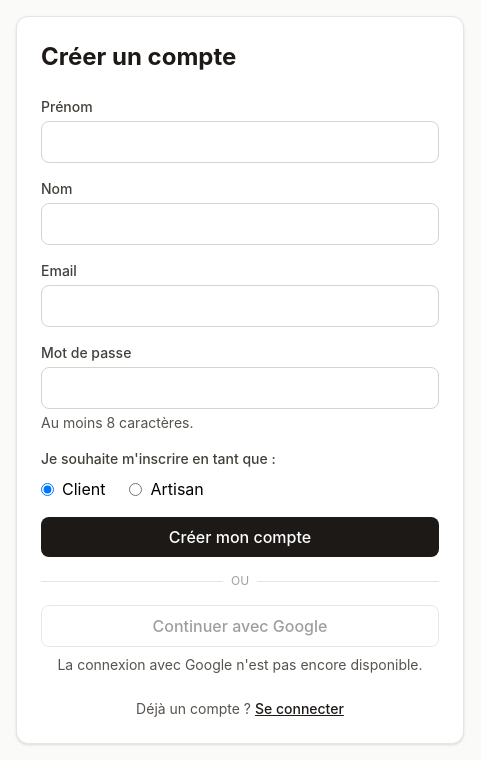
Test: RegisterPage › displays a safe service error for status 0
Type " Alice " into the field labelled "Prénom" at (240, 142), box [41,121,439,163]
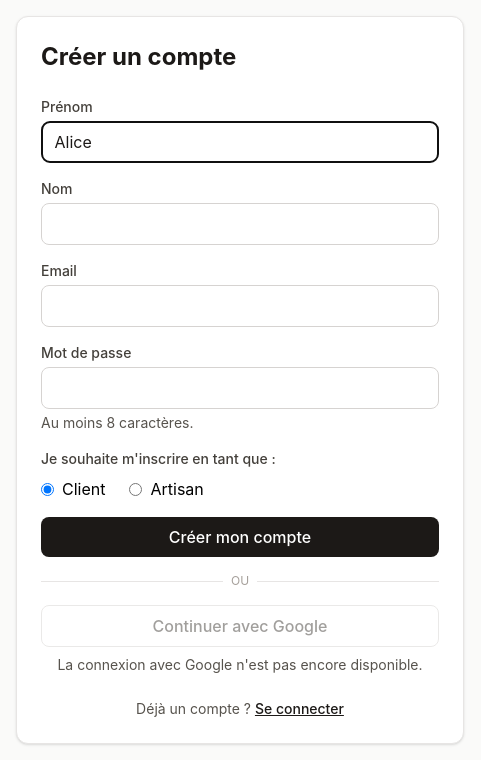
Type " Martin " into the field labelled "Nom" at (240, 224), box [41,203,439,245]
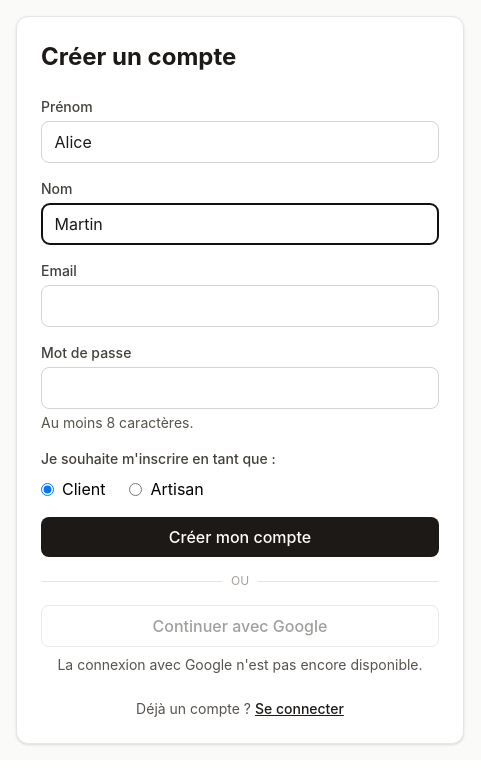
Type "alice@example.fr" into the field labelled "Email" at (240, 306), box [41,285,439,327]
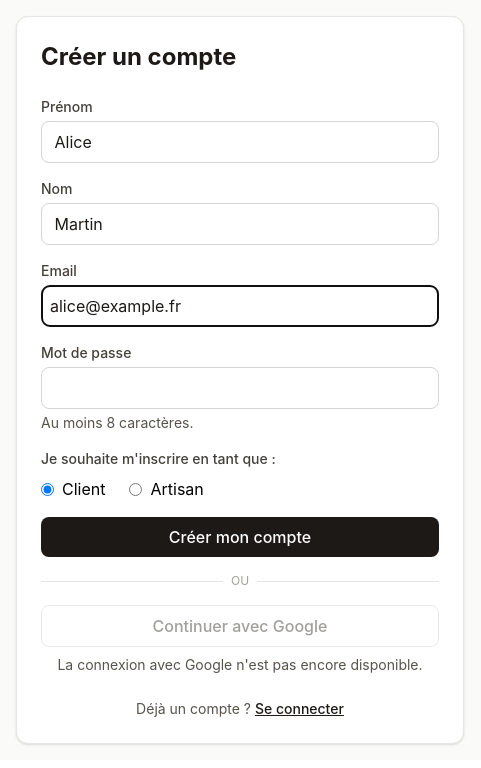
Type "12345678" into the password field labelled "Mot de passe" at (240, 388), box [41,367,439,409]
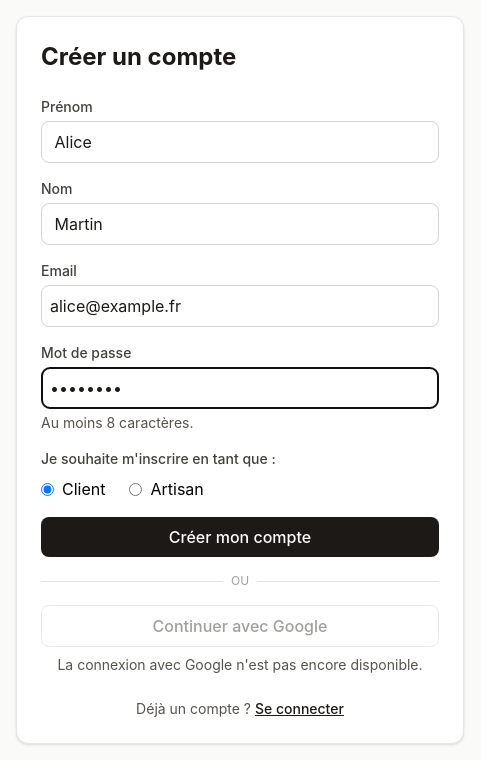
Click the button "Créer mon compte" at (240, 537), box [41,517,439,557]
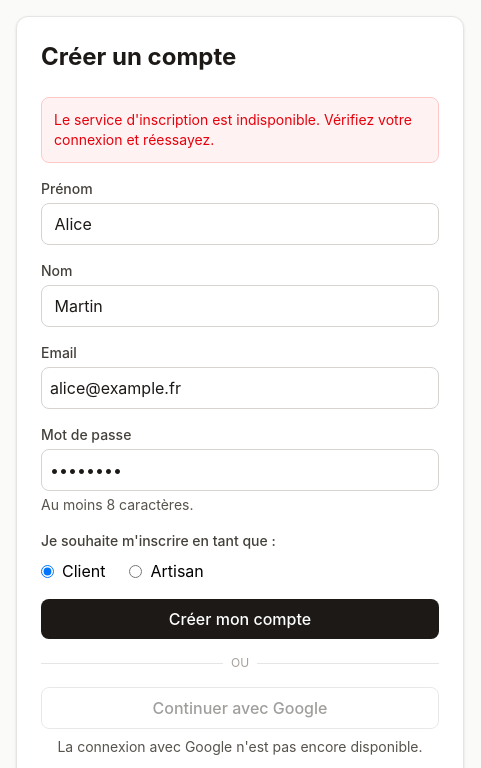
Expected: the message does not show "private server details", [41,97,439,163]
Expected: the message shows "Le service d'inscription est indisponible", [54,111,412,148]
